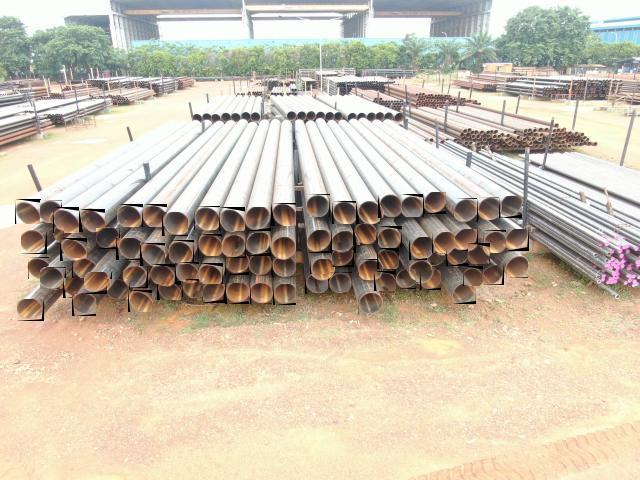pipe: (53, 207, 79, 233), (16, 199, 42, 224), (21, 230, 47, 254), (162, 212, 188, 236), (194, 206, 220, 230), (219, 207, 245, 231), (245, 207, 271, 231), (60, 238, 87, 261), (84, 272, 112, 294), (169, 240, 194, 264), (79, 209, 105, 232), (117, 204, 143, 227), (17, 300, 44, 322), (454, 198, 478, 222), (140, 243, 165, 266), (271, 203, 296, 226), (271, 237, 296, 260), (307, 230, 332, 253), (332, 201, 357, 224), (356, 201, 381, 224), (409, 237, 434, 260), (432, 232, 457, 255), (40, 268, 66, 290), (116, 238, 142, 260), (143, 204, 167, 227), (222, 235, 246, 258), (248, 233, 272, 256), (378, 194, 401, 218), (477, 197, 501, 220), (483, 230, 507, 253), (123, 266, 148, 288), (310, 259, 335, 281), (358, 292, 383, 314), (409, 262, 434, 284), (307, 194, 330, 217), (401, 194, 424, 217), (72, 258, 96, 280), (72, 294, 96, 316), (128, 290, 152, 312), (176, 262, 200, 284), (199, 263, 223, 285), (198, 234, 222, 256), (332, 231, 356, 253), (40, 200, 62, 223), (353, 223, 376, 245), (423, 192, 446, 214), (455, 230, 478, 252), (506, 230, 529, 252), (499, 196, 522, 218), (96, 228, 120, 249), (226, 283, 250, 304), (378, 227, 402, 248), (150, 264, 175, 284), (506, 256, 528, 278), (107, 279, 130, 300), (249, 254, 272, 275), (273, 284, 296, 305), (359, 259, 382, 280), (225, 255, 249, 275), (452, 284, 476, 304), (28, 257, 49, 279), (250, 283, 272, 304), (378, 248, 400, 269), (468, 243, 490, 264), (305, 274, 328, 294), (329, 272, 352, 292), (157, 281, 181, 300), (272, 258, 296, 277), (374, 271, 396, 291), (203, 284, 226, 303), (63, 278, 84, 298), (420, 270, 441, 290), (483, 265, 504, 285), (396, 270, 416, 290), (463, 266, 483, 286), (182, 280, 204, 298), (446, 249, 469, 266), (332, 250, 354, 267), (427, 253, 445, 266), (54, 227, 64, 244)
